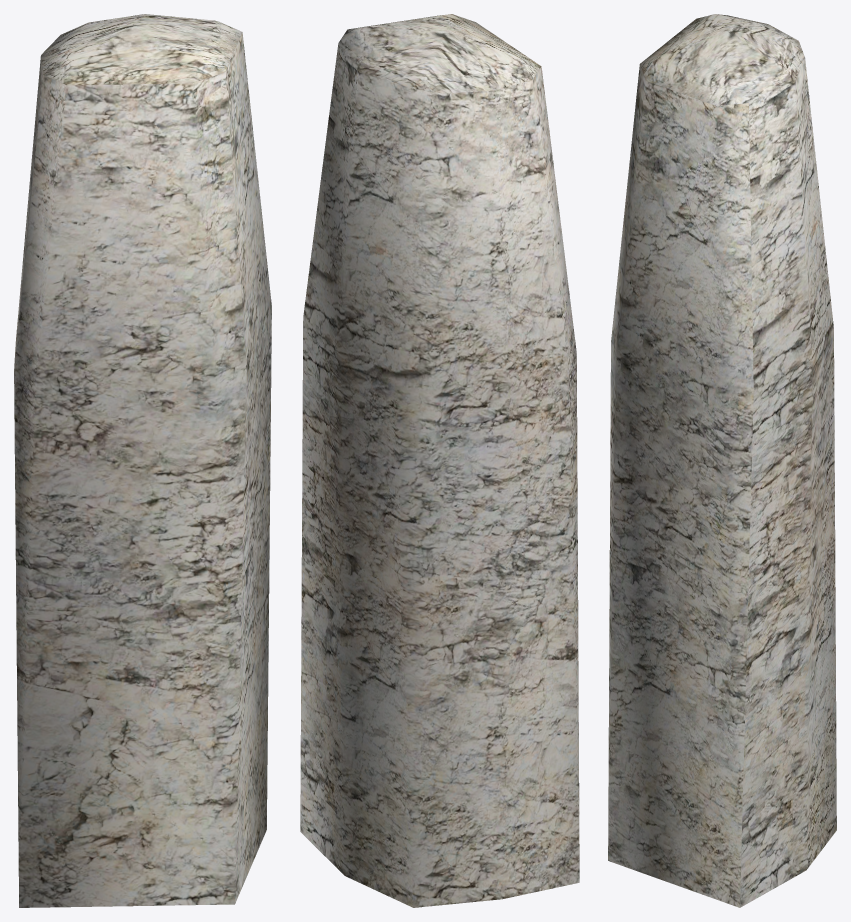
Rendered from stone_furrowed_2.dae.
3 renders of one model, left to right at view 1: azimuth 30°, elevation 25°; view 2: azimuth 150°, elevation 25°; view 3: azimuth 270°, elevation 25°, orthographic. The views are drawn at different scales.
Visible parts, largest first — view 1: Cube_010; view 2: Cube_010; view 3: Cube_010.
Part boxes in pixels (bbox=[...]): Cube_010: bbox=[14, 14, 271, 907]; Cube_010: bbox=[300, 14, 579, 907]; Cube_010: bbox=[608, 14, 836, 907].
Bounding box in the file's own units: 7.01 × 5.43 × 21.22.
